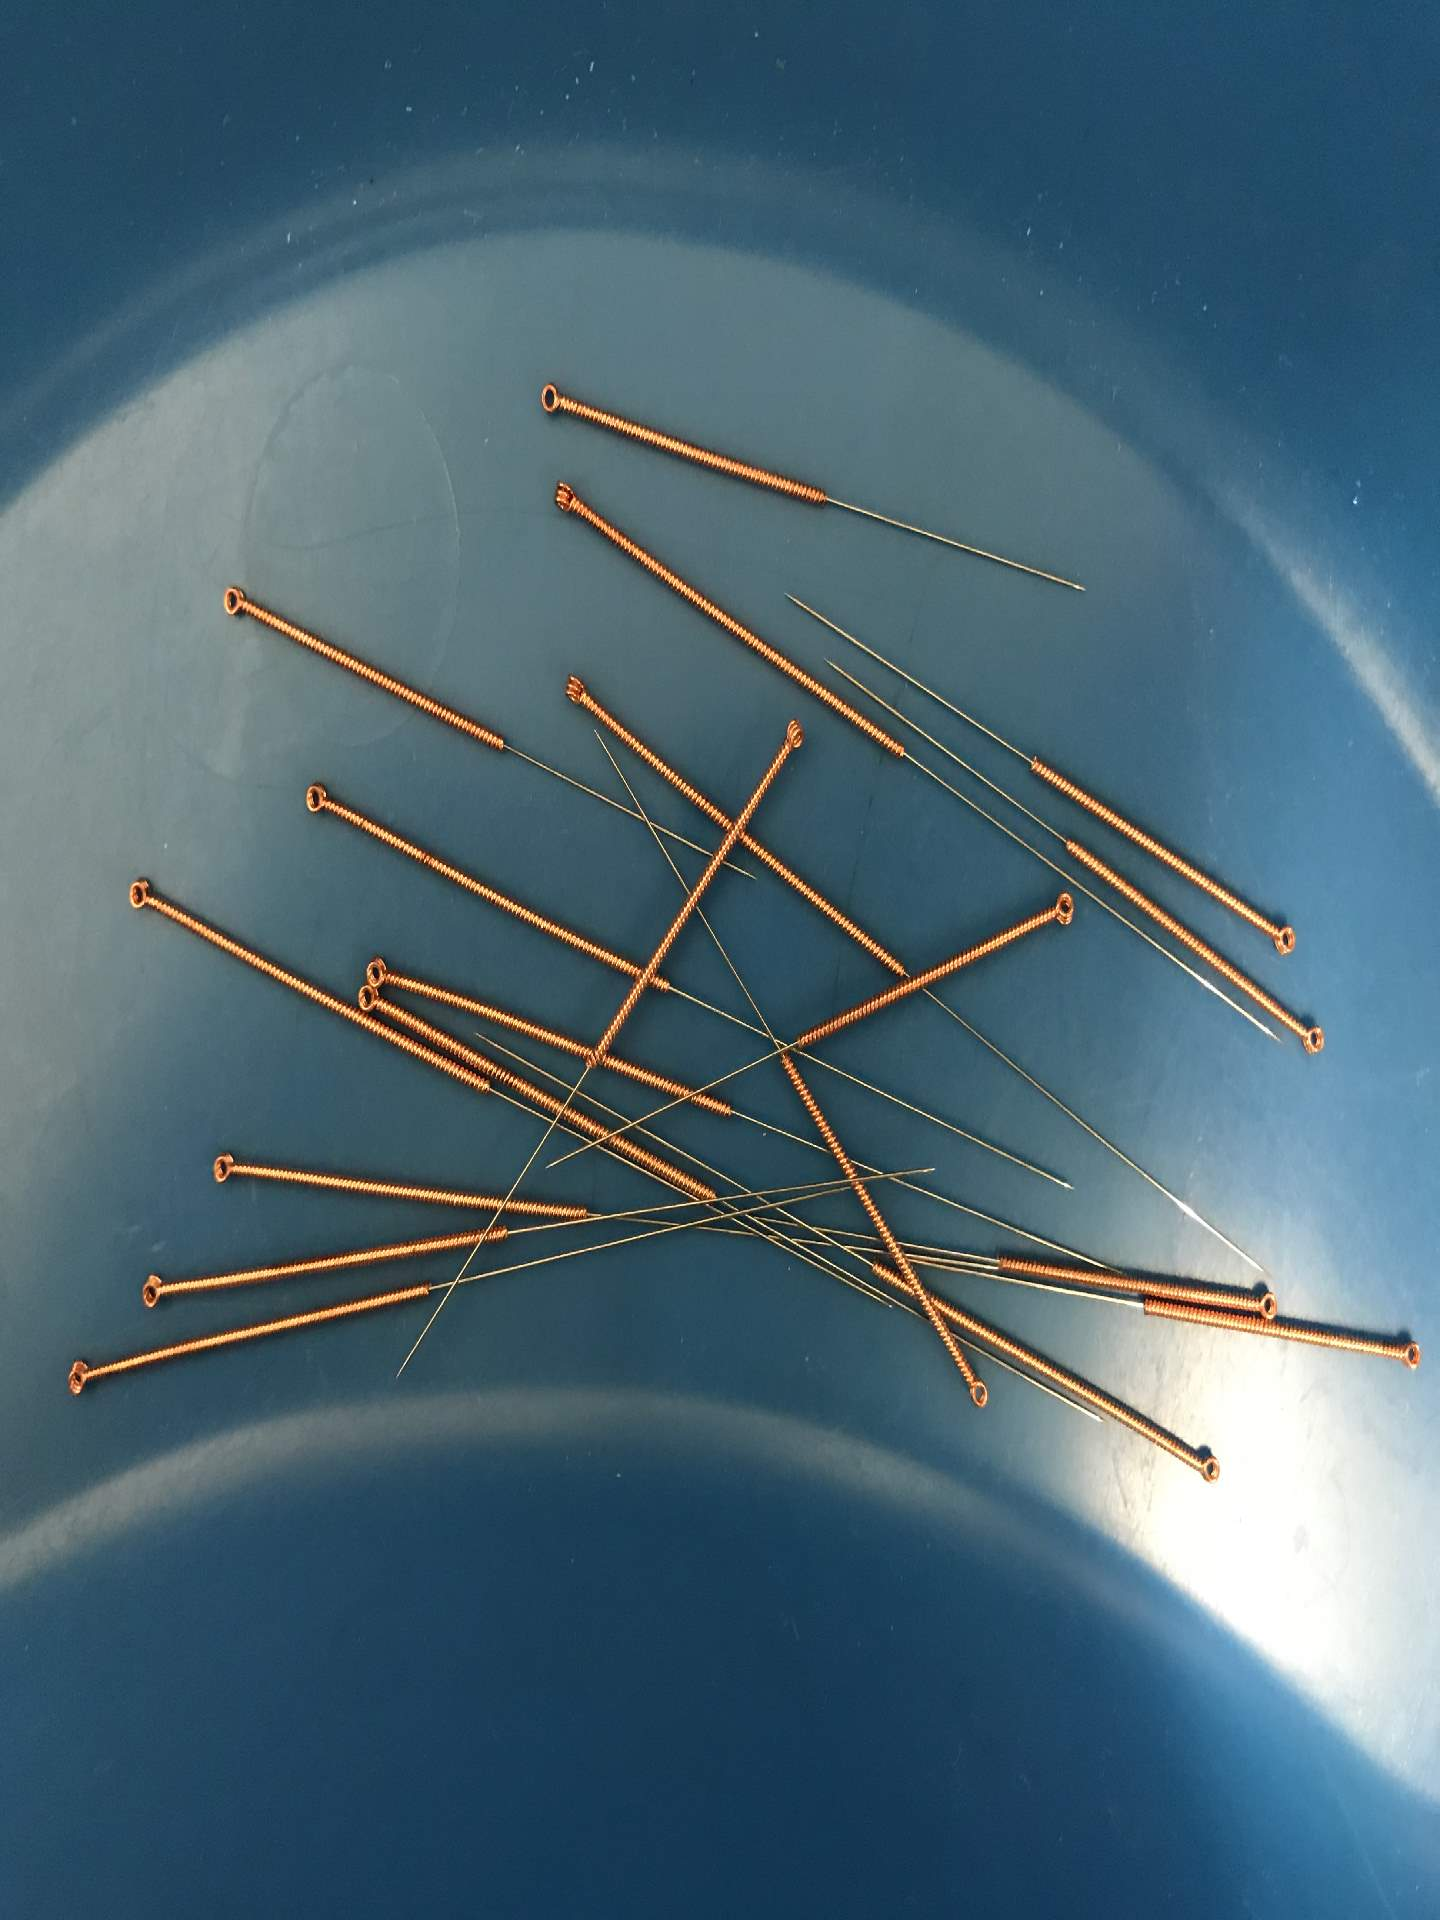needle: (56, 1350, 101, 1406), (543, 472, 590, 525), (1286, 1011, 1333, 1061), (116, 869, 162, 921), (1262, 912, 1305, 965), (956, 1364, 997, 1420), (129, 1265, 172, 1317), (554, 667, 597, 717), (203, 1141, 245, 1193), (212, 578, 256, 626), (528, 375, 572, 423), (293, 776, 336, 825), (1038, 886, 1083, 931), (770, 711, 812, 757), (1186, 1444, 1228, 1491), (1389, 1330, 1429, 1379), (1245, 1284, 1283, 1326), (362, 951, 399, 992), (351, 980, 386, 1016)
